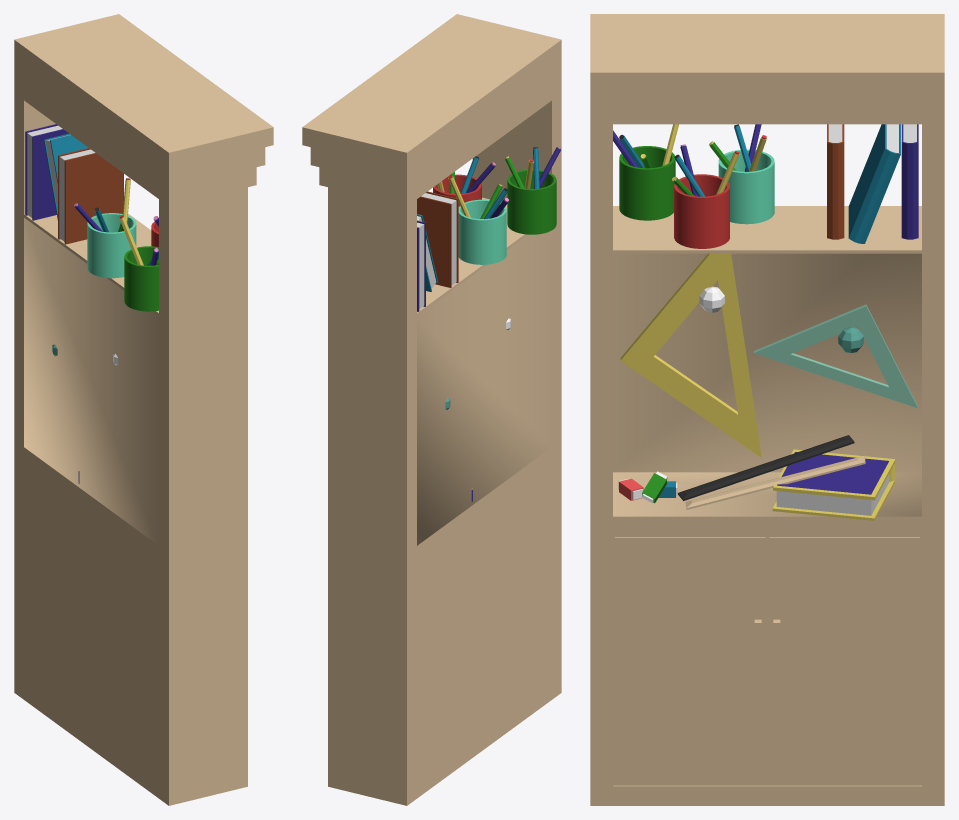
Rendered from cupboard.fbx.
3 renders of one model, left to right at view 1: azimuth 30°, elevation 25°; view 2: azimuth 150°, elevation 25°; view 3: azimuth 270°, elevation 25°, orthographic. The views are drawn at different scales.
Visible parts, largest first — view 1: Bookcase.003, Book.099, Book.079, pCylinder6.003, pCylinder6.005, Book.081; view 2: Bookcase.003, Book.099, pCylinder6.005, pCylinder6.003, Book.079, pCylinder6.004; view 3: Bookcase.003, Plane.007, pCube6.003, Plane.008, pCylinder6.004, pCylinder6.005, Book.081, pCylinder6.003, Book.079, Book.099, rubber.004, rubber.003.
Boxes of the visible parts, x1,y1,x2,y2 form: Bookcase.003: [14, 14, 273, 805]; Book.099: [58, 148, 123, 244]; Book.079: [25, 124, 68, 220]; pCylinder6.003: [87, 213, 136, 278]; pCylinder6.005: [124, 246, 158, 311]; Book.081: [44, 133, 88, 219]; Bookcase.003: [302, 14, 561, 805]; Book.099: [417, 191, 458, 287]; pCylinder6.005: [507, 169, 556, 234]; pCylinder6.003: [458, 199, 506, 264]; Book.079: [417, 220, 425, 311]; pCylinder6.004: [433, 174, 481, 206]; Bookcase.003: [590, 14, 944, 805]; Plane.007: [620, 253, 761, 457]; pCube6.003: [772, 449, 895, 520]; Plane.008: [753, 304, 917, 408]; pCylinder6.004: [674, 174, 729, 248]; pCylinder6.005: [619, 146, 675, 220]; Book.081: [848, 124, 900, 243]; pCylinder6.003: [718, 149, 774, 224]; Book.079: [901, 124, 918, 239]; Book.099: [827, 124, 844, 239]; rubber.004: [677, 435, 854, 500]; rubber.003: [685, 455, 865, 509].
Size of the model in its own units: 44.06 by 219 by 94.04.
